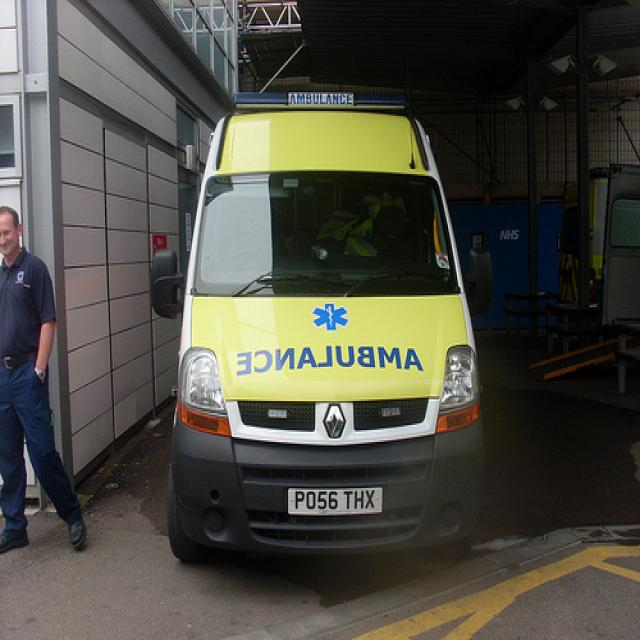emergency-vehicle: (179, 108, 481, 570)
